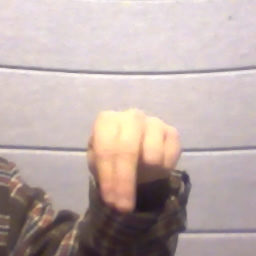N: (85, 108, 184, 216)
